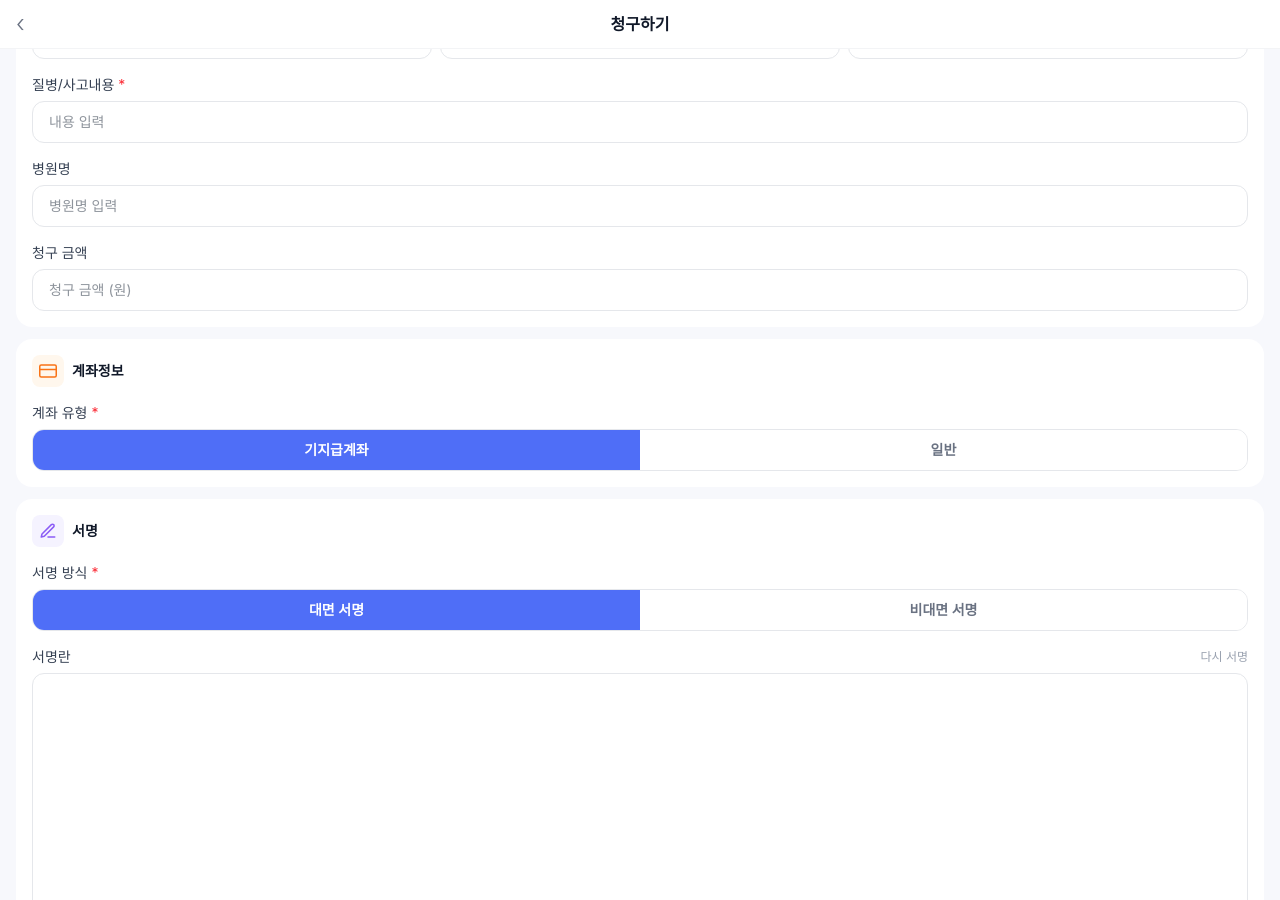
Scenario: ClaimNew (청구하기 폼) › 성공 케이스 › 계좌 유형으로 "일반" 선택 시 은행/계좌번호/예금주 필드가 등장한다
(page scrolled)
Click the button "일반" at point(944, 450), box [640,430,1247,470]
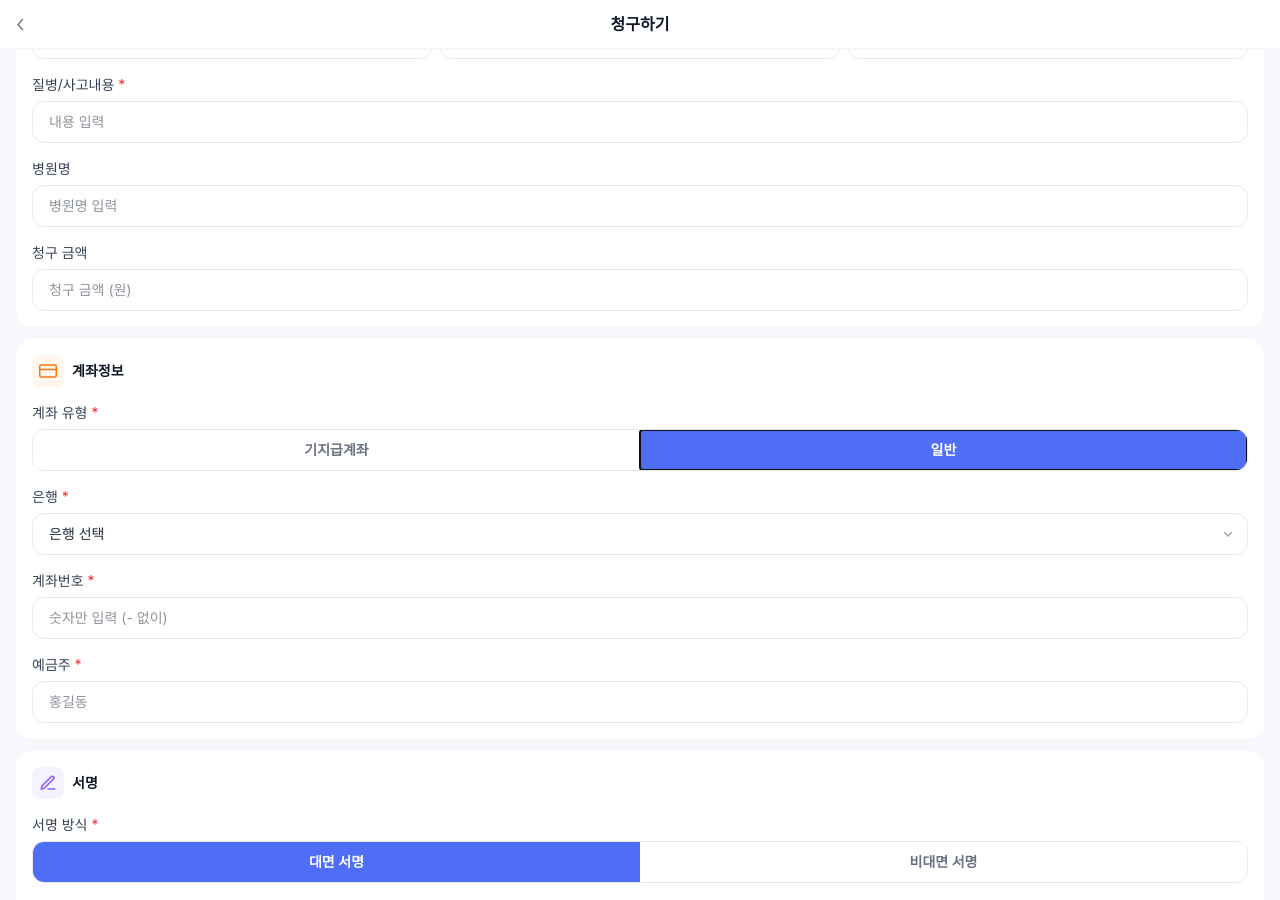
Expected: the text "은행" is shown, [32,488,58,505]
Expected: the text "계좌번호" is shown, [32,572,84,589]
Expected: the text "예금주" is shown, [32,656,71,673]
